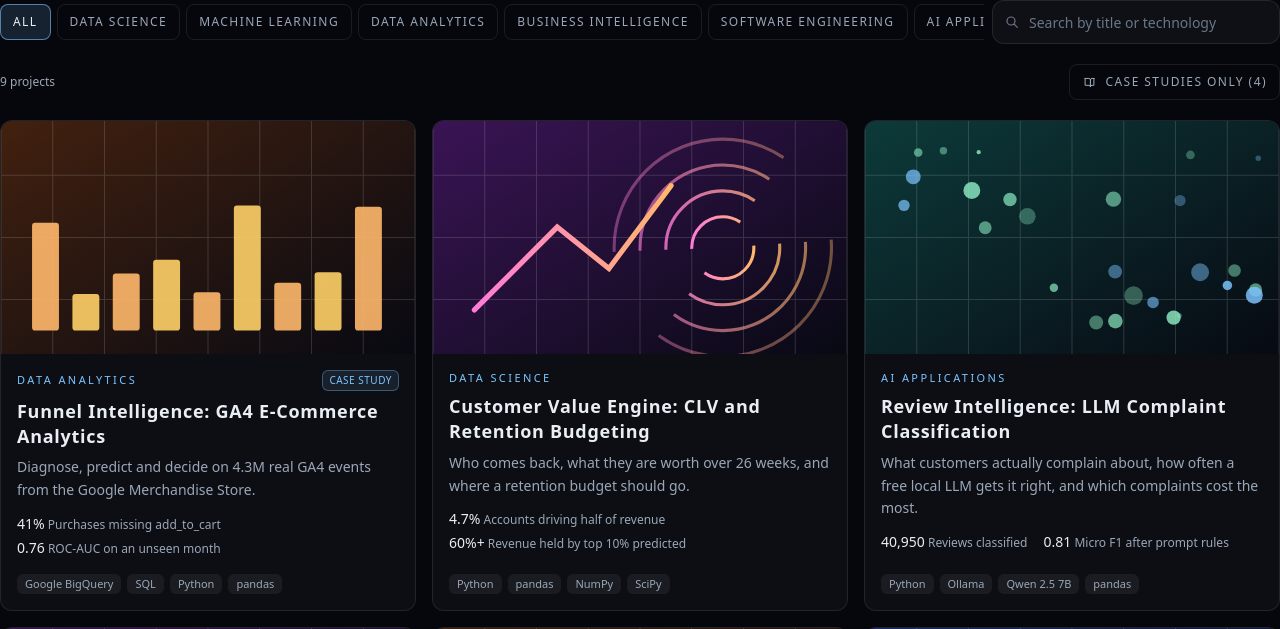
Test: ProjectsPanel › lists every project and filters by category and search
Click the button "Data Analytics": (428, 22) [358,4,498,40]
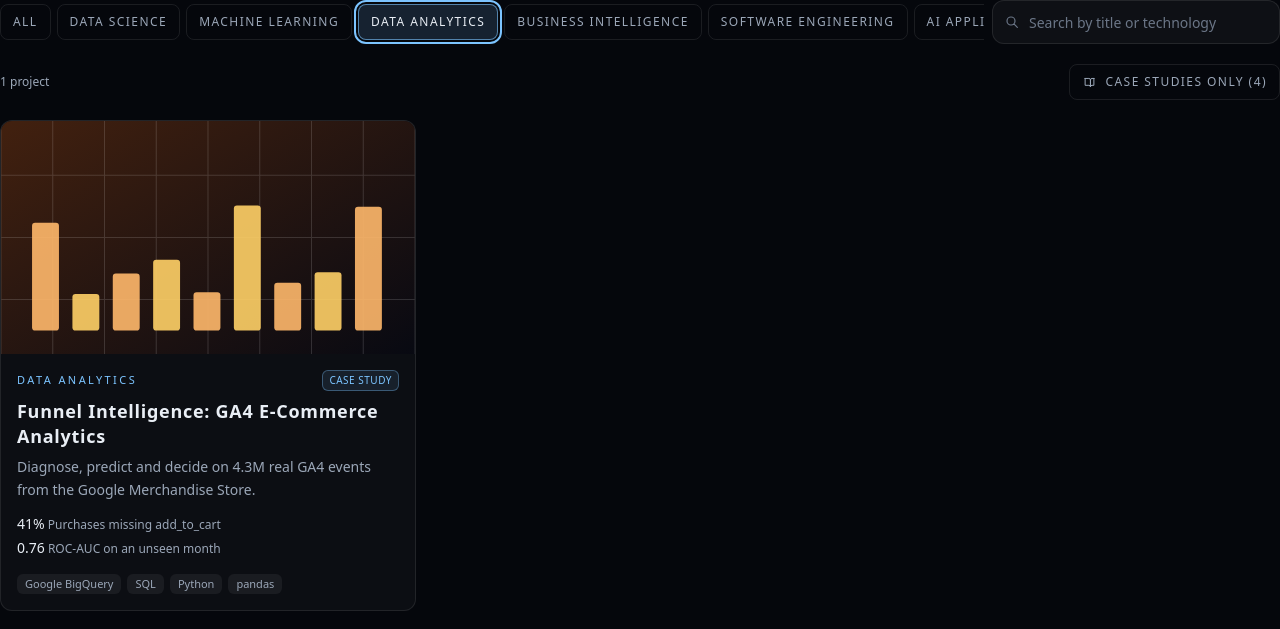
Now the number of links is 1, box [0,120,416,611]
Click the button "All": (25, 22) [0,4,51,40]
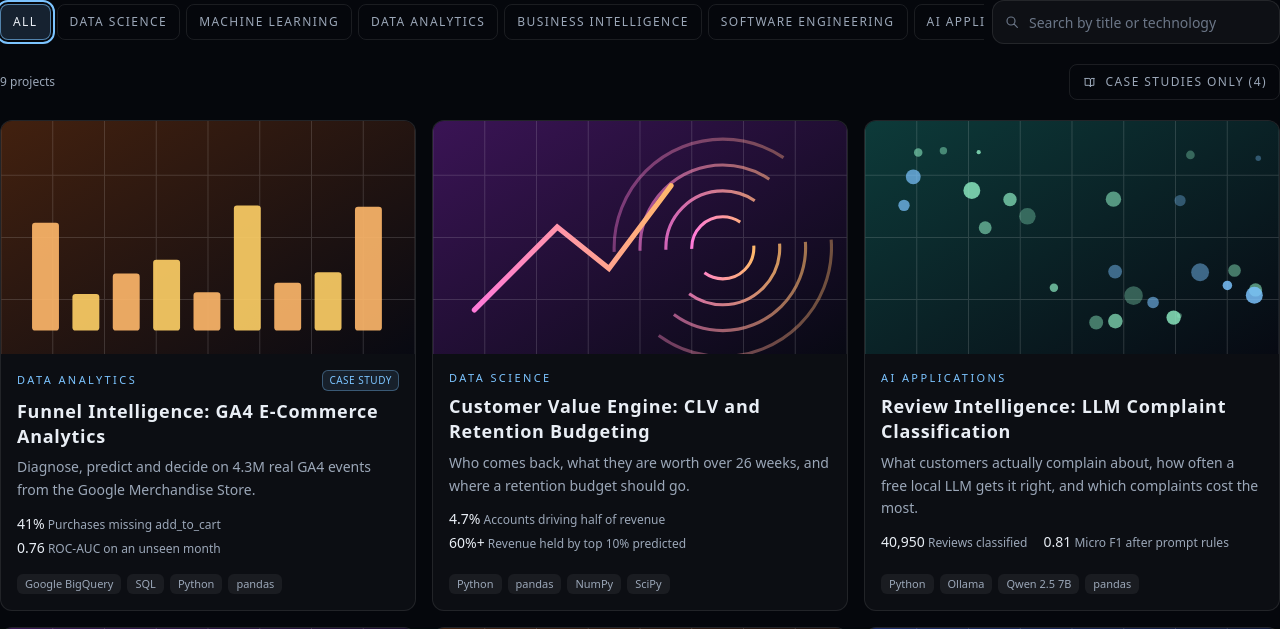
In the search field named "Search projects": (1136, 22) [992,0,1279,44], type "duckdb"
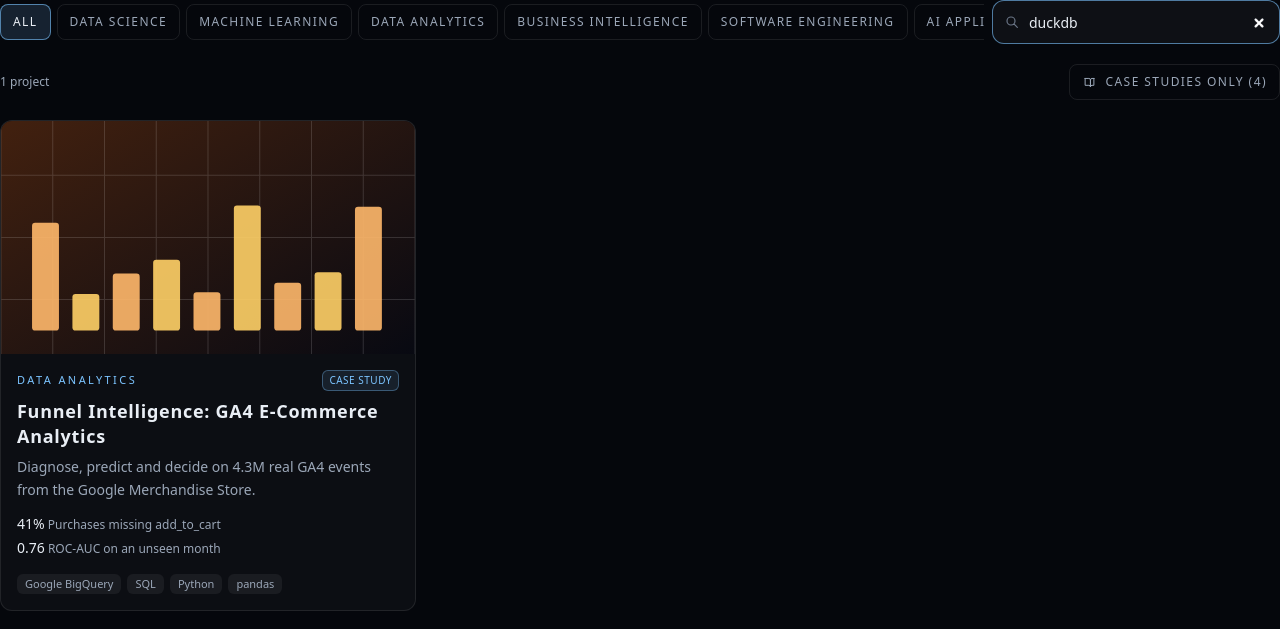
Expected: the text "Funnel Intelligence: GA4 E-Commerce Analytics" is shown, [17,399,399,448]
Now the message reads "1 project", box [0,74,49,90]
